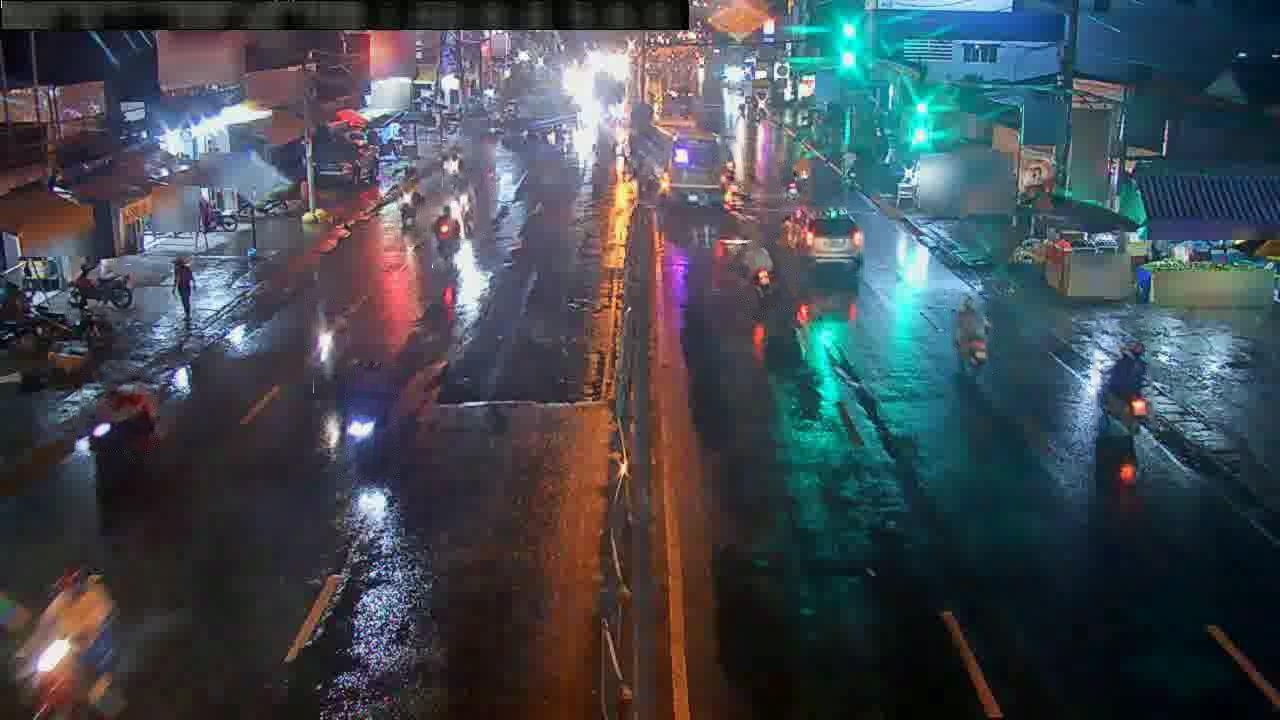Bus: (662, 130, 723, 208)
Car: (809, 212, 863, 259)
Motorcyclist: (340, 361, 398, 474), (77, 380, 158, 454), (1099, 340, 1149, 435), (735, 240, 793, 315), (309, 304, 349, 389), (68, 263, 132, 310), (953, 298, 989, 375), (451, 171, 491, 237), (432, 205, 461, 269), (442, 144, 470, 190), (397, 188, 424, 235), (721, 144, 741, 186), (782, 167, 802, 204)
Pedestrian: (173, 257, 193, 324)
